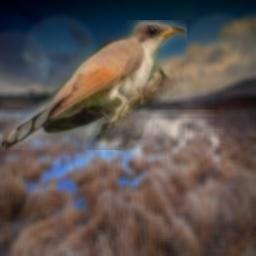Cuckoo: (2, 20, 187, 150)
